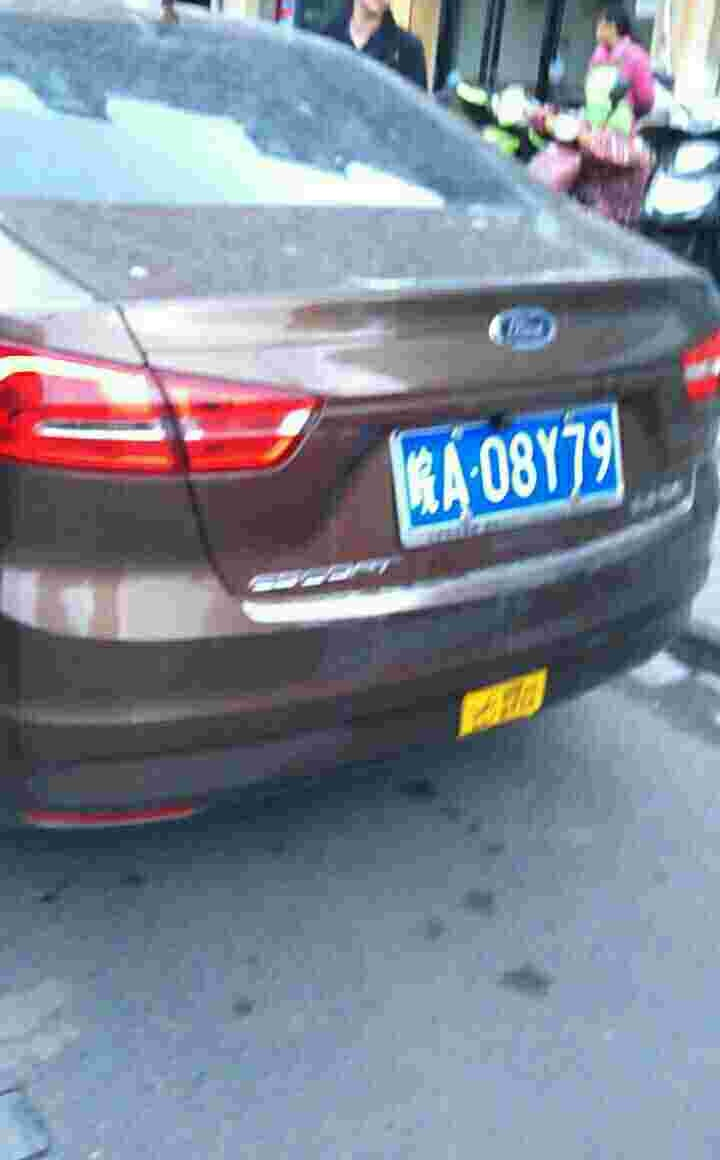license_plate: (400, 406, 618, 538)
